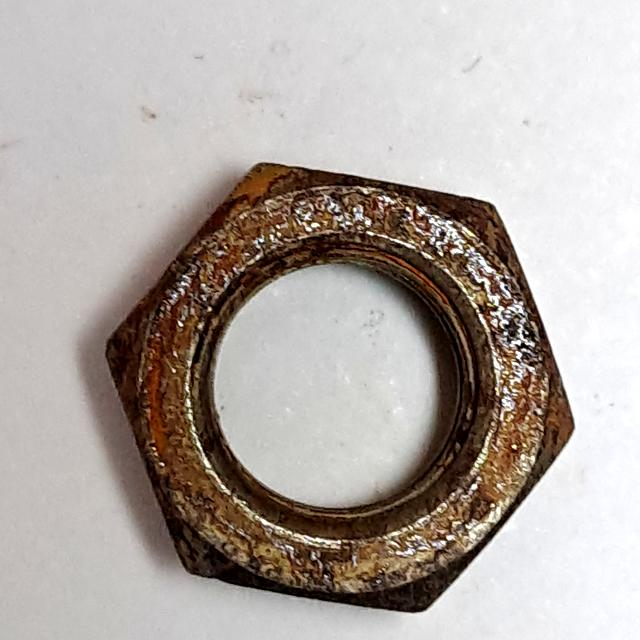Rust: (94, 149, 595, 632)
